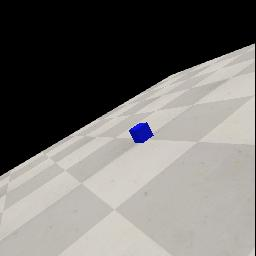box: (129, 122, 154, 143)
